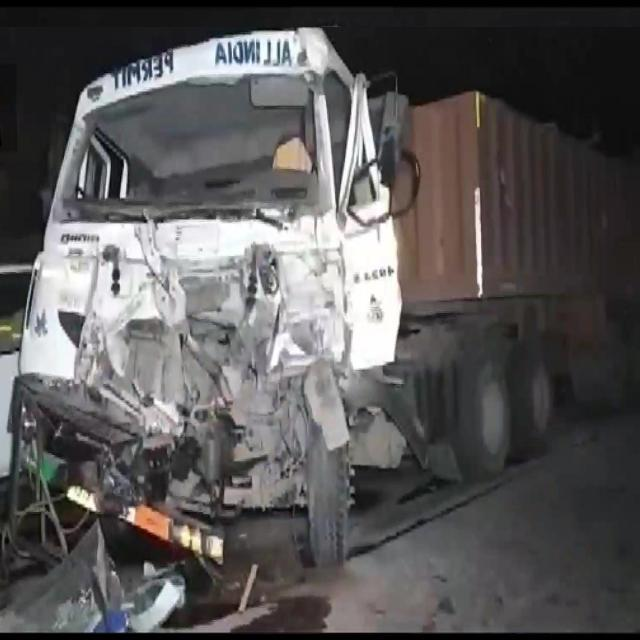accident: (0, 27, 640, 633)
